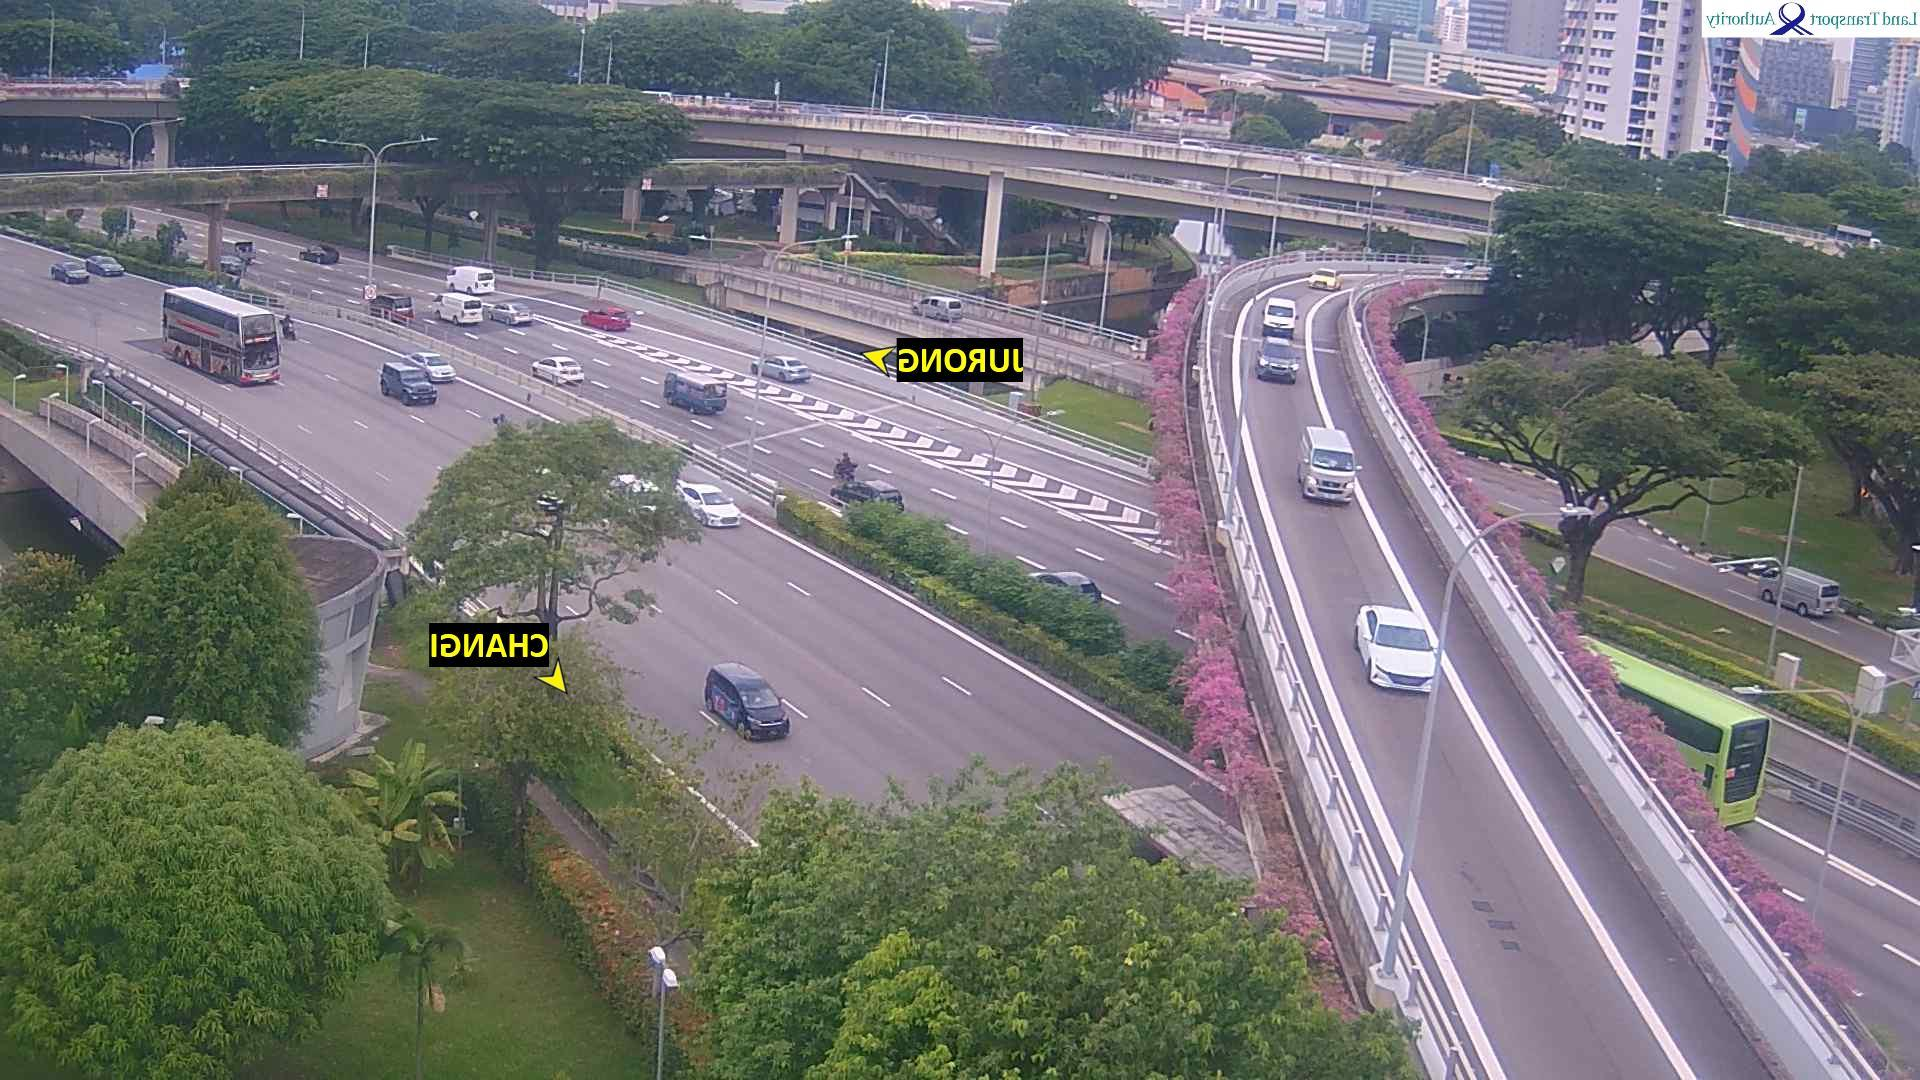bus: (1575, 633, 1772, 830), (161, 285, 283, 386)
cars: (1354, 603, 1441, 692), (705, 660, 792, 741), (1299, 425, 1363, 504), (1757, 564, 1842, 617), (677, 481, 743, 528), (831, 478, 906, 514), (380, 360, 439, 405), (1030, 569, 1102, 604), (1256, 336, 1301, 383), (609, 472, 662, 511), (751, 354, 812, 383), (435, 291, 484, 325), (532, 355, 586, 385), (409, 350, 456, 382), (447, 265, 497, 295), (913, 294, 965, 322), (370, 291, 415, 323), (1263, 296, 1299, 334), (582, 305, 634, 331), (491, 300, 535, 325), (85, 253, 126, 276), (51, 260, 90, 283), (300, 243, 340, 264), (1309, 267, 1341, 290), (1442, 258, 1477, 278), (743, 97, 783, 113), (1298, 152, 1334, 169), (1028, 125, 1065, 140), (221, 253, 246, 275), (234, 240, 255, 261), (1181, 137, 1214, 150), (905, 113, 932, 125)
motorcycle: (829, 449, 855, 482), (488, 412, 511, 435), (281, 313, 297, 344)
trucks: (664, 370, 729, 415), (1826, 227, 1877, 252)
